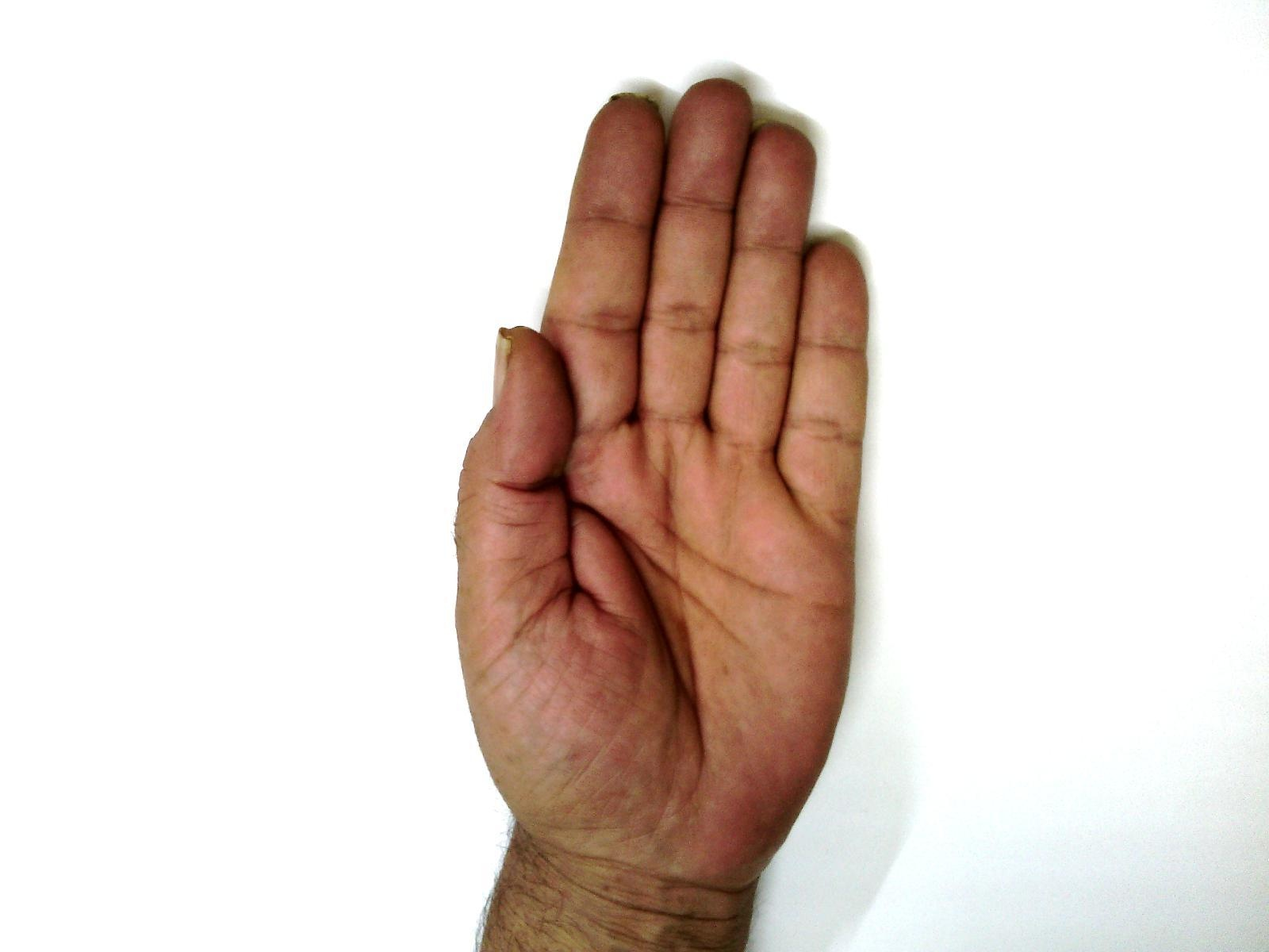open_palm: (450, 78, 875, 889)
